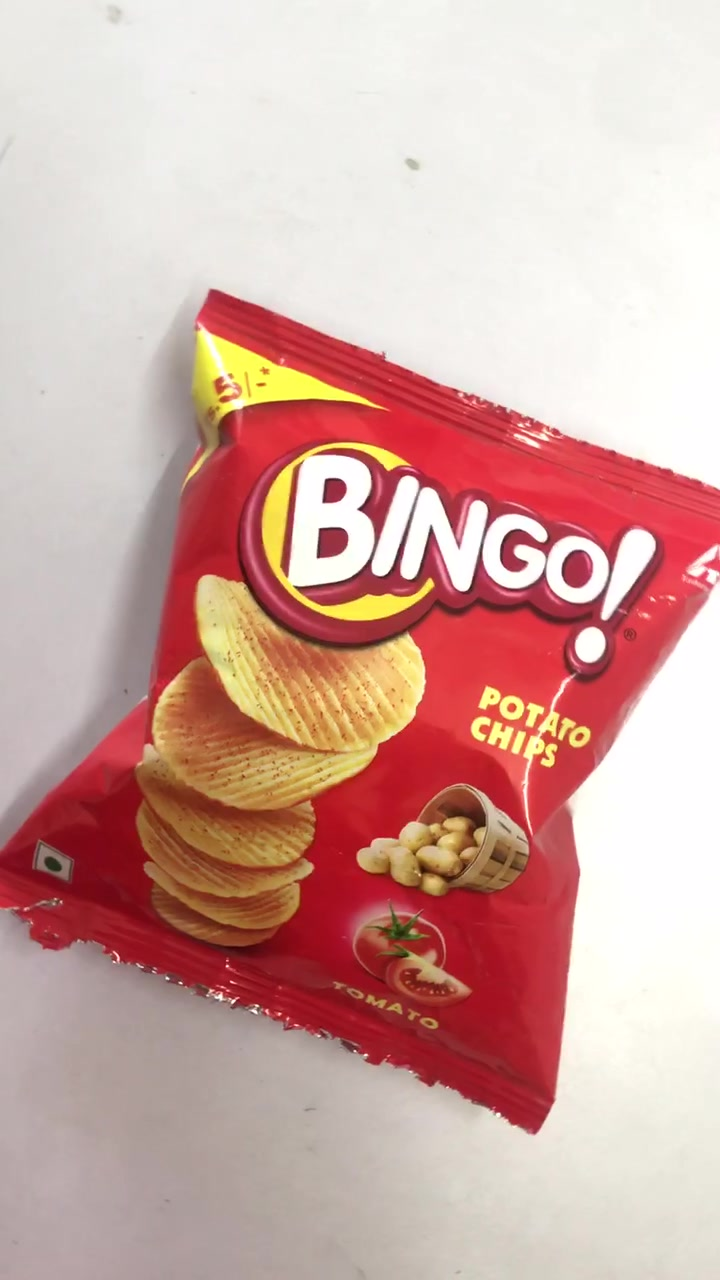Bingo: (14, 298, 720, 1099)
